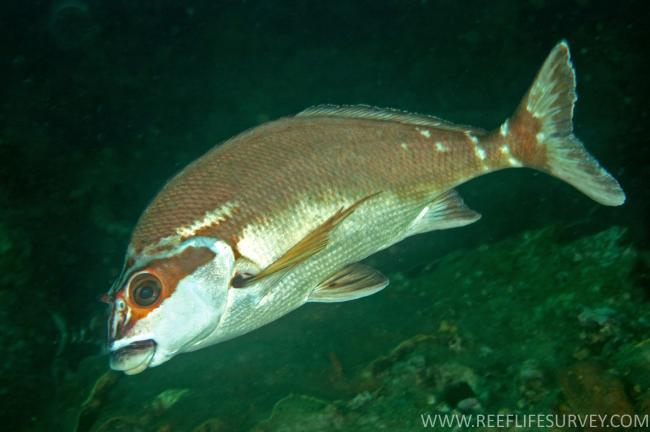fish: (106, 39, 625, 376)
